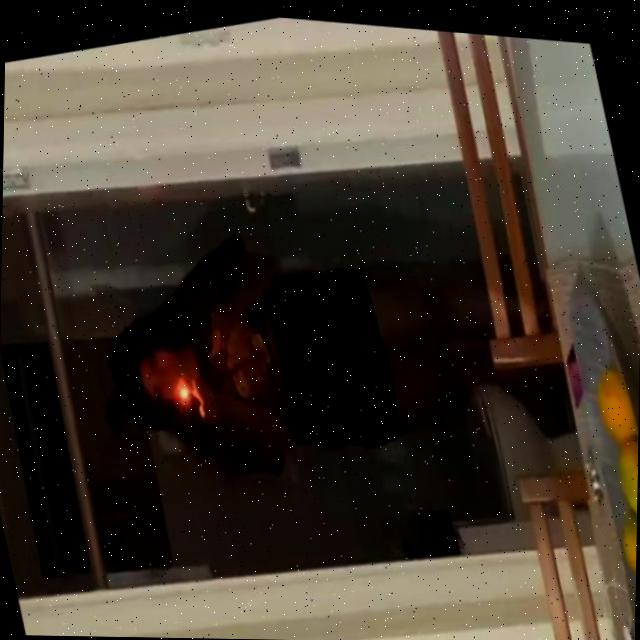fire: (165, 368, 199, 416)
